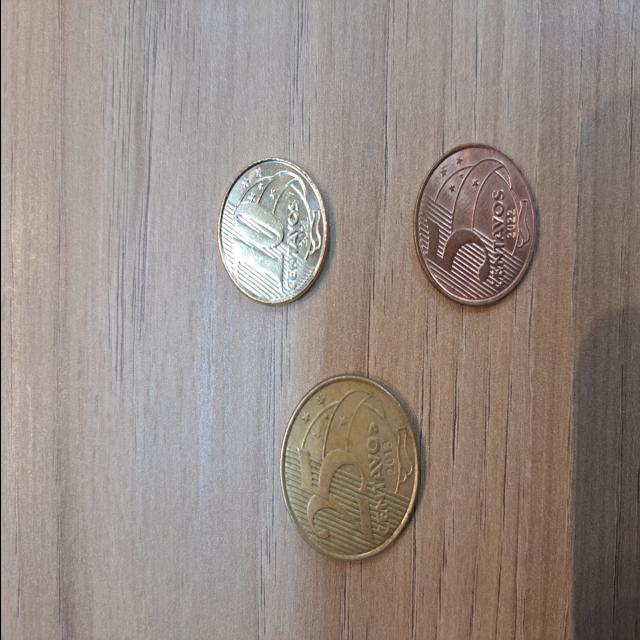25 cents: (278, 379, 424, 565)
